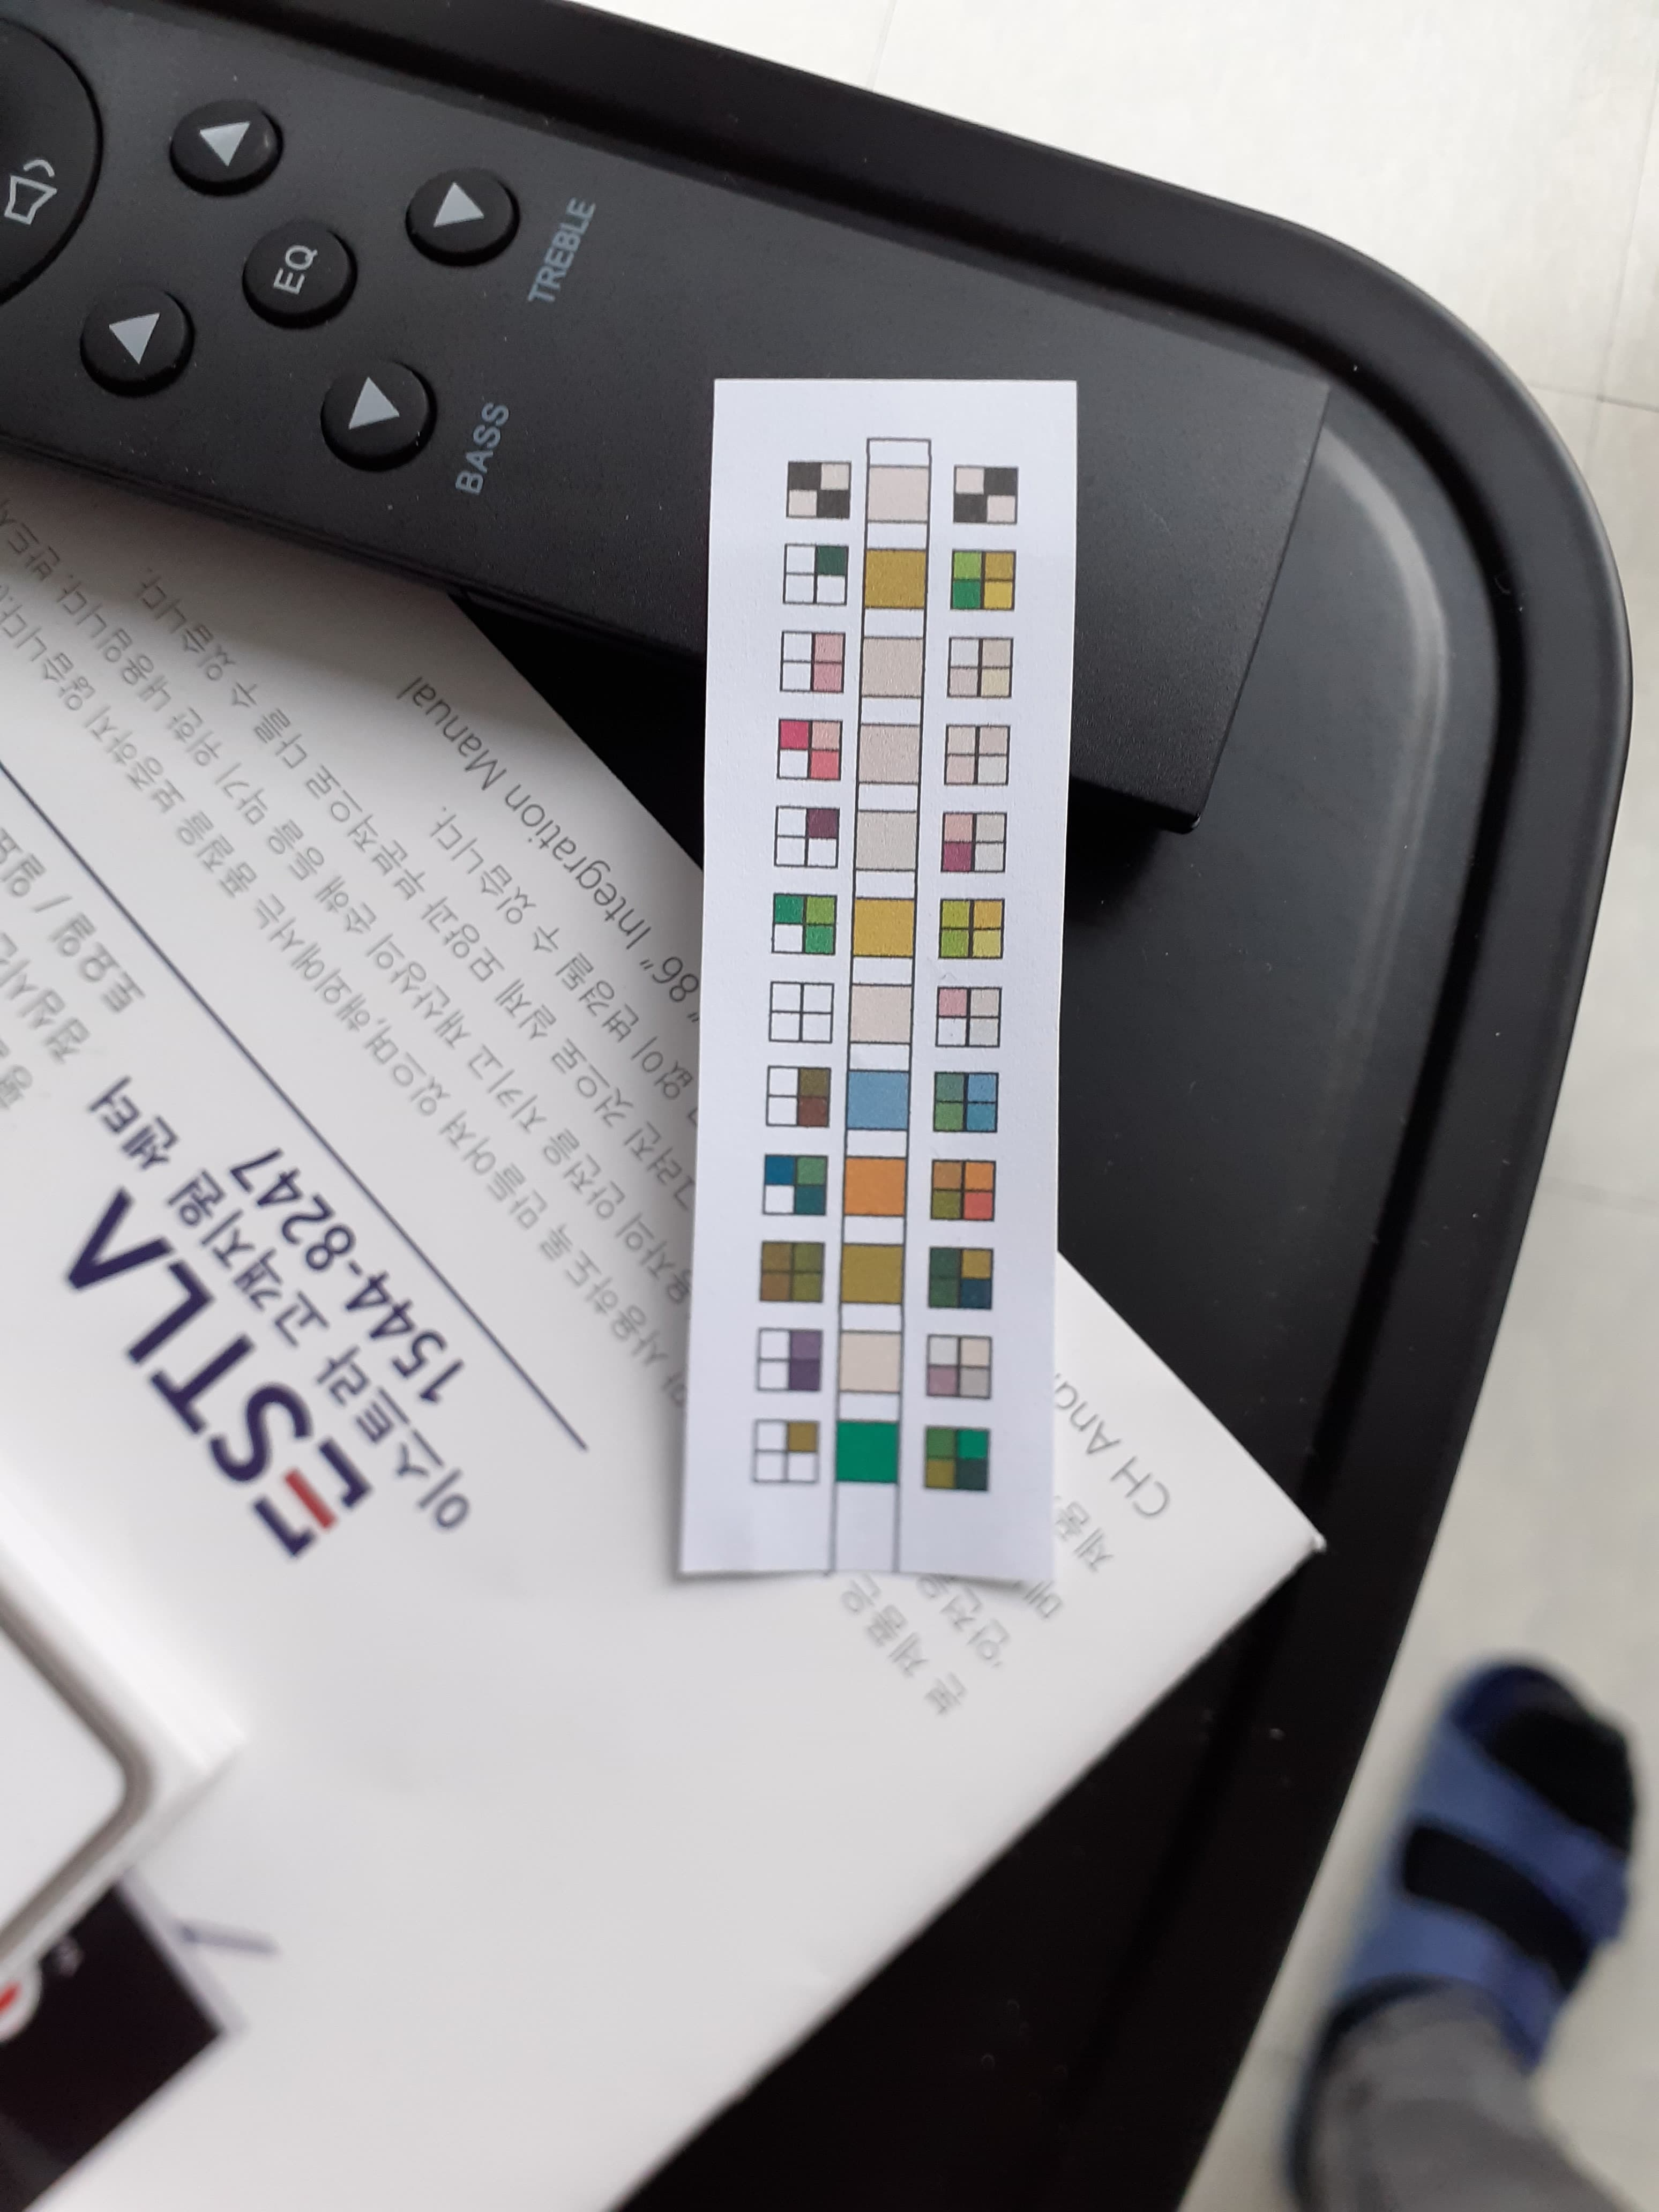tester: (709, 374, 1066, 1595)
